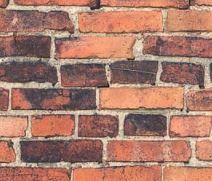brick: (106, 140, 193, 166), (10, 86, 98, 111), (17, 139, 104, 164), (97, 87, 185, 111), (53, 34, 134, 58), (77, 10, 161, 31), (141, 35, 212, 57), (1, 10, 69, 32), (1, 34, 52, 58), (160, 60, 204, 86), (60, 63, 109, 86), (120, 113, 168, 136), (1, 164, 70, 180), (1, 63, 58, 82), (170, 114, 212, 139), (111, 61, 155, 84), (77, 114, 119, 138), (30, 115, 75, 137), (75, 168, 163, 179), (167, 9, 212, 30), (1, 114, 29, 139), (164, 167, 212, 180)
